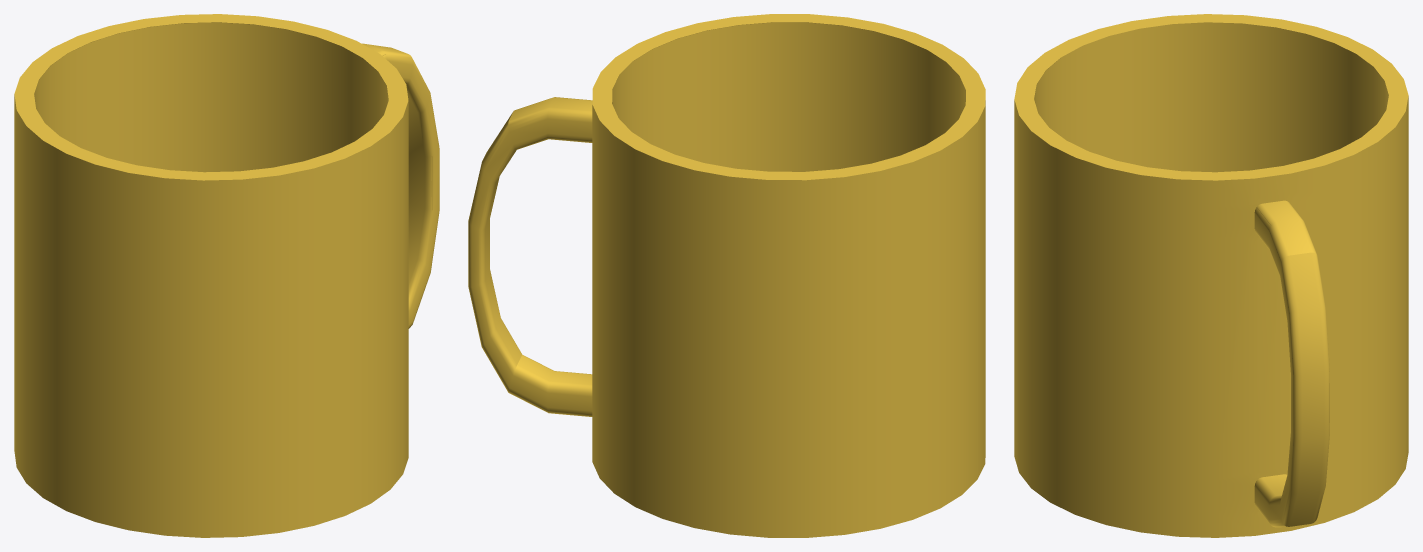
Rendered from KitchenMug.009.fbx.
3 renders of one model, left to right at view 1: azimuth 30°, elevation 25°; view 2: azimuth 150°, elevation 25°; view 3: azimuth 270°, elevation 25°, orthographic.
Parts seen in each view (by area): view 1: KitchenMug.009_Baked; view 2: KitchenMug.009_Baked; view 3: KitchenMug.009_Baked.
Part boxes in pixels (bbox=[...]): KitchenMug.009_Baked: bbox=[14, 14, 439, 537]; KitchenMug.009_Baked: bbox=[468, 14, 985, 537]; KitchenMug.009_Baked: bbox=[1014, 14, 1408, 537].
Size of the model in its own units: 11.13 by 8.61 by 8.61.
1 material, 1 textured.
